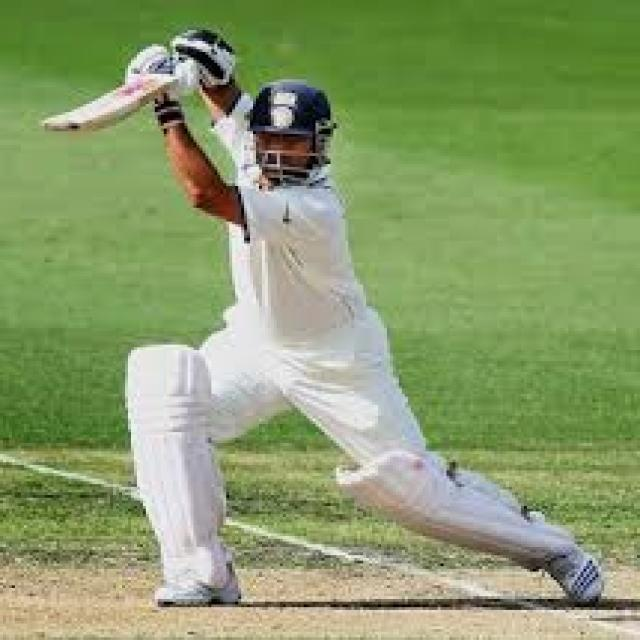bat: (33, 76, 170, 143)
toe: (35, 120, 87, 133)
